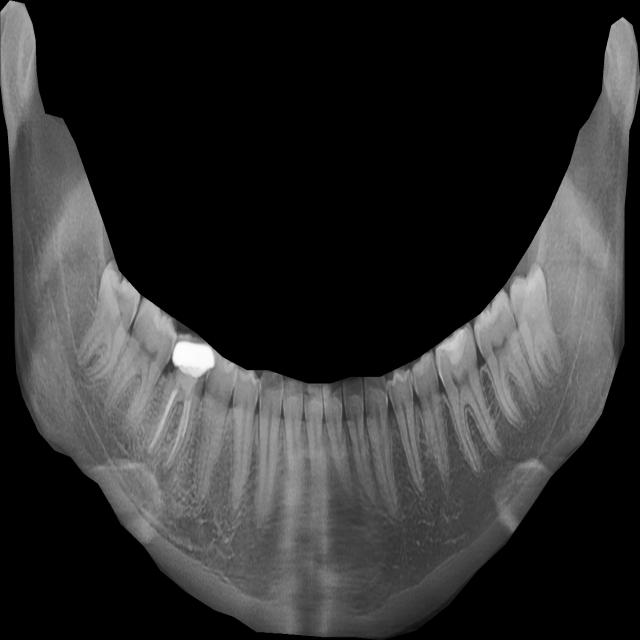mandibula: (0, 0, 640, 640)
